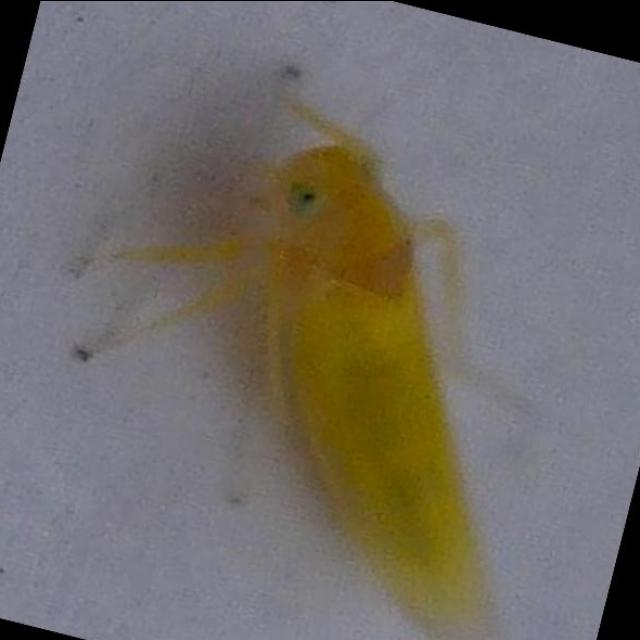green leaf hopper: (102, 105, 486, 615)
